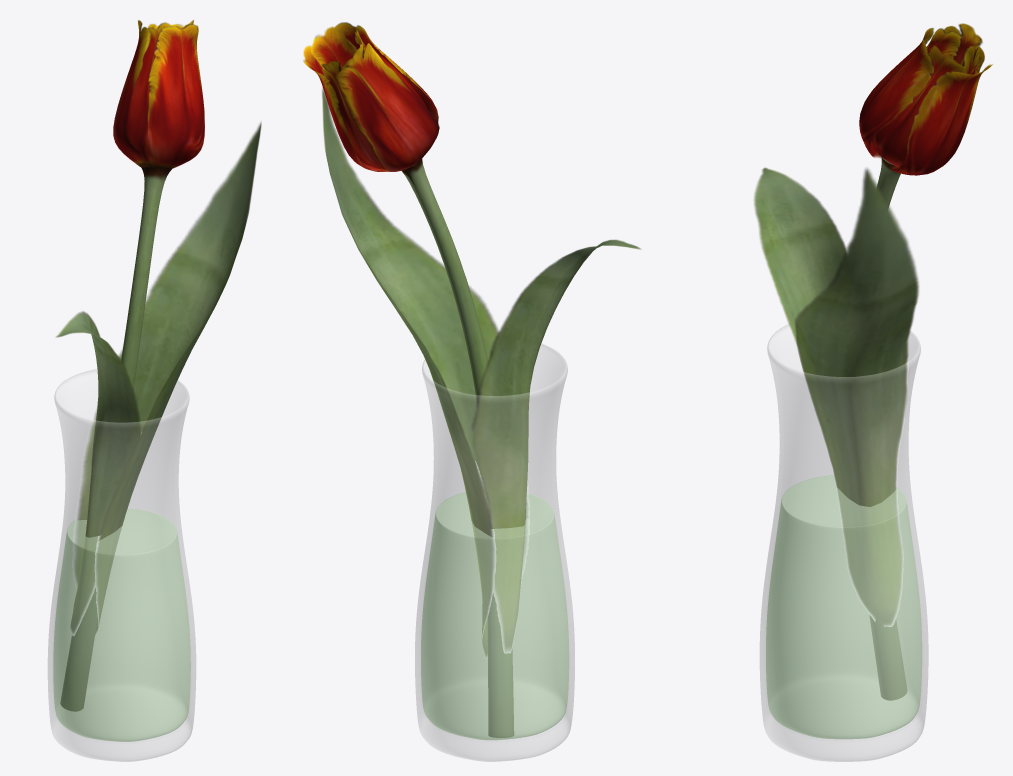
File: the_lonely_tulip.glb
The picture shows the model from 3 angles, left to right: view 1: azimuth 30°, elevation 25°; view 2: azimuth 150°, elevation 25°; view 3: azimuth 270°, elevation 25°; orthographic projection. The views are drawn at different scales.
Visible parts, largest first — view 1: Object_3, Object_4, Object_5; view 2: Object_3, Object_4, Object_5; view 3: Object_3, Object_4, Object_5.
Part boxes in pixels (<box>): Object_3: <box>48,369,195,761</box>; Object_4: <box>55,20,261,711</box>; Object_5: <box>53,509,190,741</box>; Object_3: <box>415,343,574,761</box>; Object_4: <box>303,22,641,737</box>; Object_5: <box>421,492,569,740</box>; Object_3: <box>760,324,928,761</box>; Object_4: <box>754,23,992,700</box>; Object_5: <box>766,475,922,739</box>.
Size of the model in its own units: 12.4 by 28.65 by 10.25.
4 materials, 1 textured.
